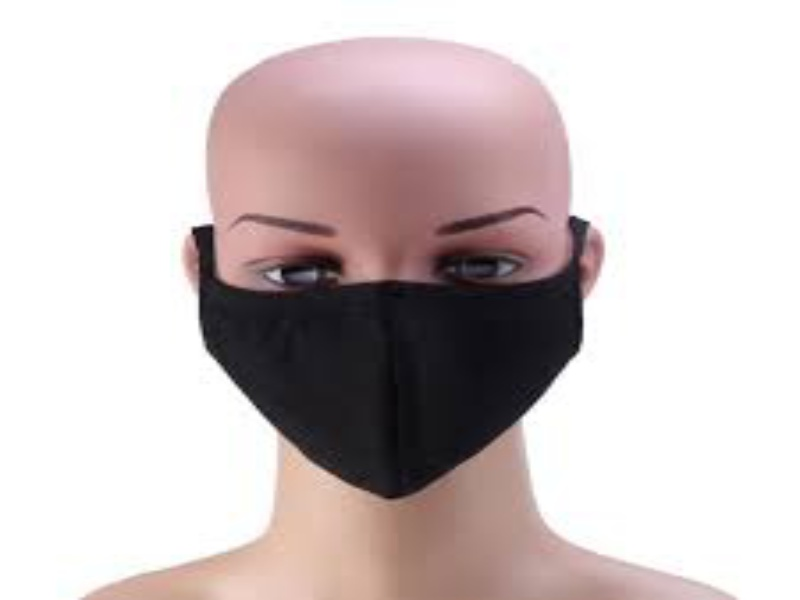ManaoArotava: (162, 29, 642, 530)
